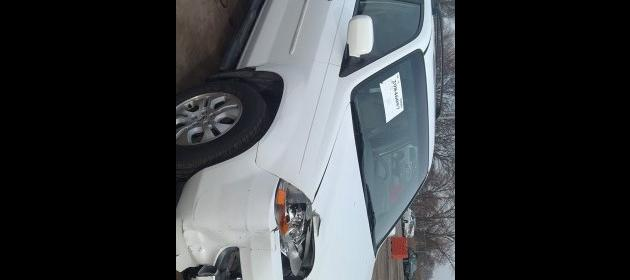Broken part: (175, 140, 282, 280), (274, 180, 314, 280)
Dent: (176, 223, 275, 271), (312, 209, 321, 238)
Missing part: (220, 250, 240, 280)
Paint chip: (311, 208, 320, 236), (238, 245, 275, 250), (185, 243, 192, 254), (194, 247, 204, 253), (180, 221, 183, 233), (197, 246, 202, 253), (176, 253, 181, 258), (245, 189, 253, 191)
Scratch: (192, 192, 206, 223)
